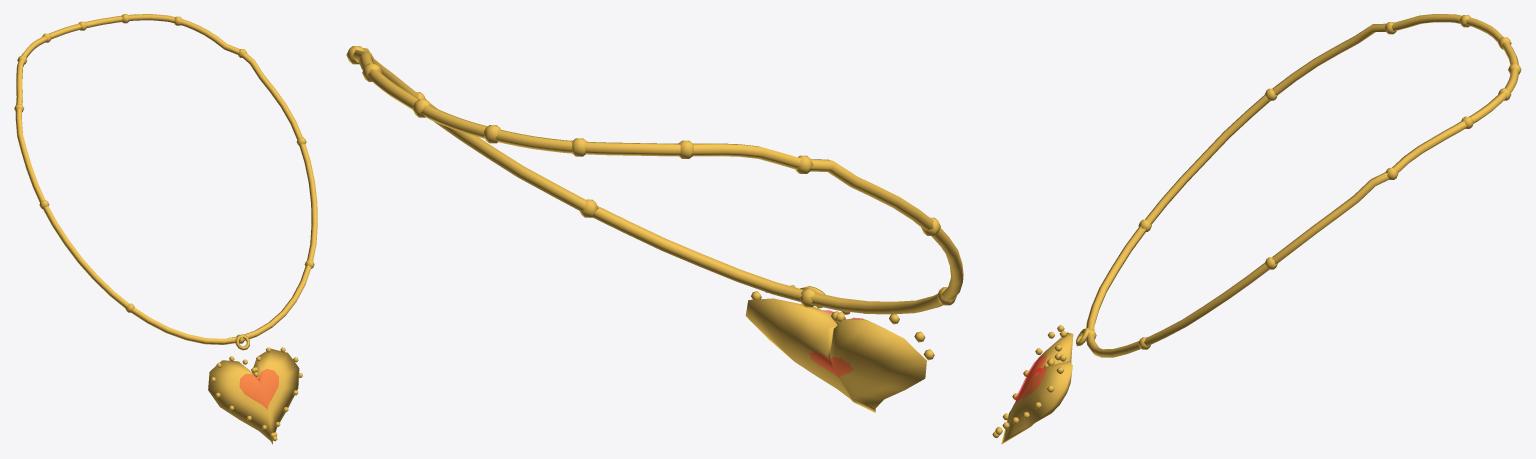
The model's file is big_heart_necklace.glb.
3 views of the same model, side by side, from view 1: azimuth 30°, elevation 25°; view 2: azimuth 150°, elevation 25°; view 3: azimuth 270°, elevation 25° (orthographic). The views are drawn at different scales.
Parts seen in each view (by area): view 1: big_heart_necklace; view 2: big_heart_necklace; view 3: big_heart_necklace.
Boxes of the visible parts, x1=… form: big_heart_necklace: x1=14, y1=14, x2=317, y2=444; big_heart_necklace: x1=346, y1=46, x2=963, y2=412; big_heart_necklace: x1=992, y1=14, x2=1521, y2=444.
Bounding box in the file's own units: 0.1178 × 0.1209 × 0.1516.
